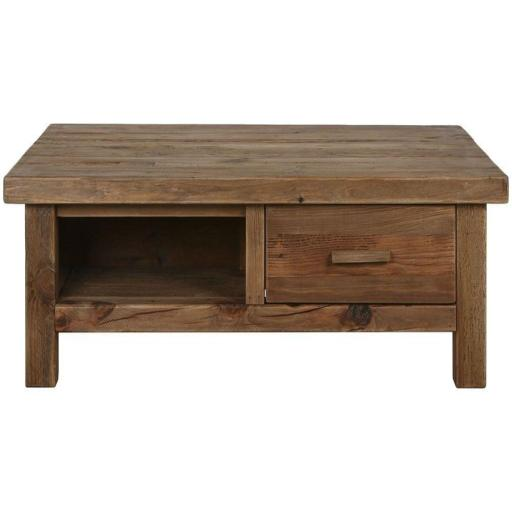table: (2, 113, 510, 411)
